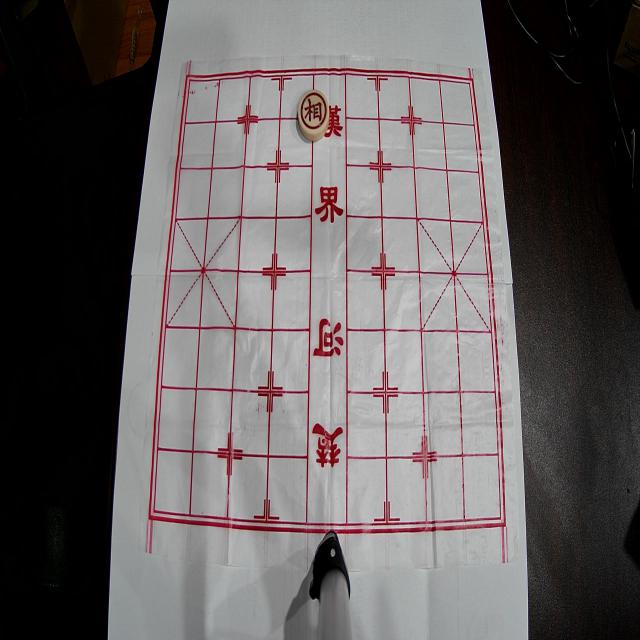red-elephant: (298, 90, 329, 141)
